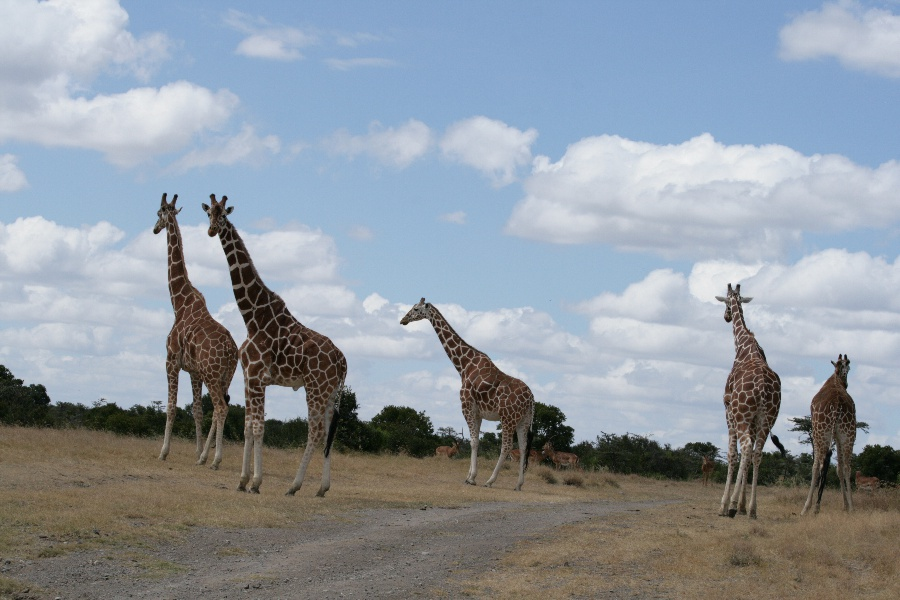giraffe: (195, 187, 355, 502), (393, 287, 541, 493), (146, 185, 239, 477), (709, 279, 786, 523), (796, 345, 870, 520)
